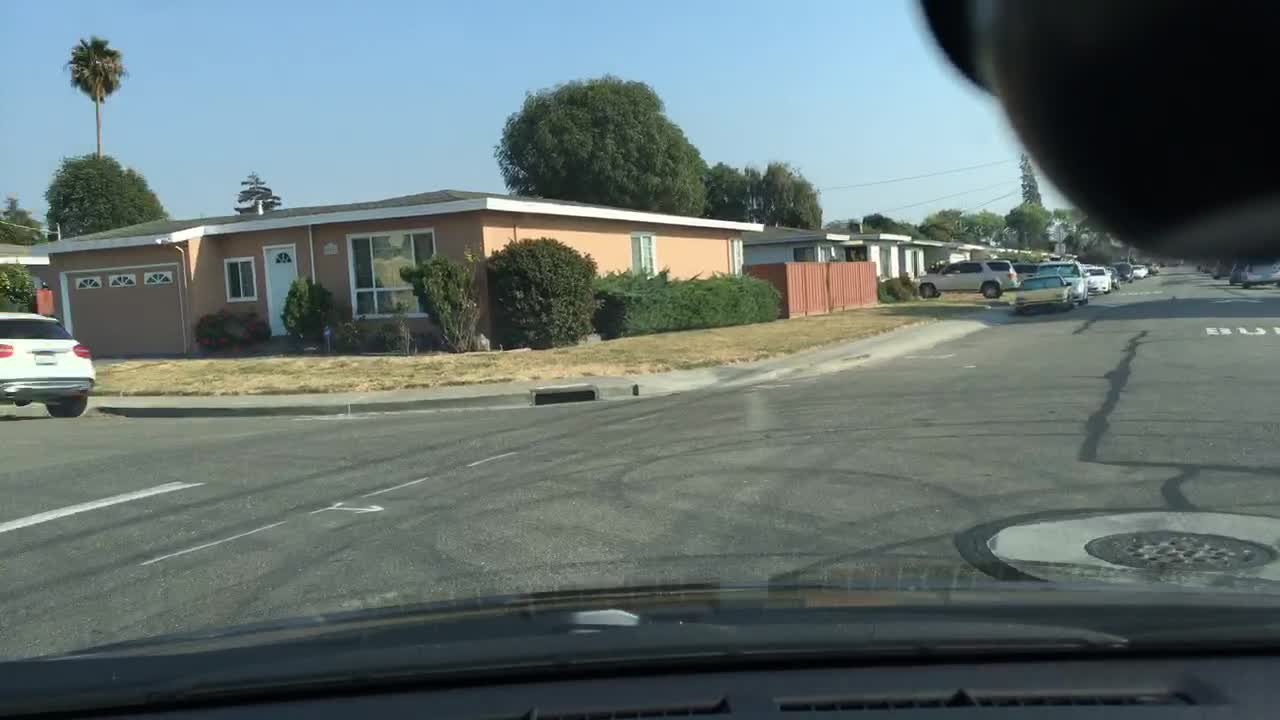car: (0, 310, 103, 420), (914, 258, 1021, 299), (1011, 272, 1082, 314), (1037, 261, 1088, 307), (1237, 254, 1278, 288), (1080, 264, 1112, 296), (1007, 258, 1041, 282), (1206, 259, 1241, 279), (1100, 262, 1120, 291), (1111, 258, 1133, 282), (1126, 258, 1148, 278), (1166, 254, 1186, 269), (1191, 259, 1213, 272), (1143, 260, 1163, 274)
